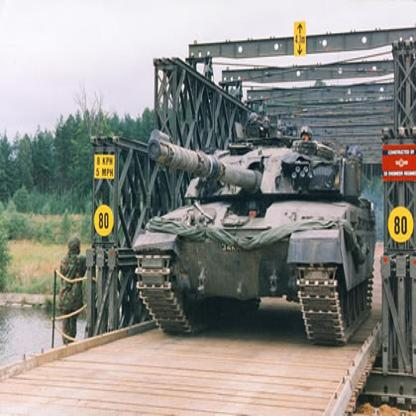Tank: (135, 123, 380, 356)
